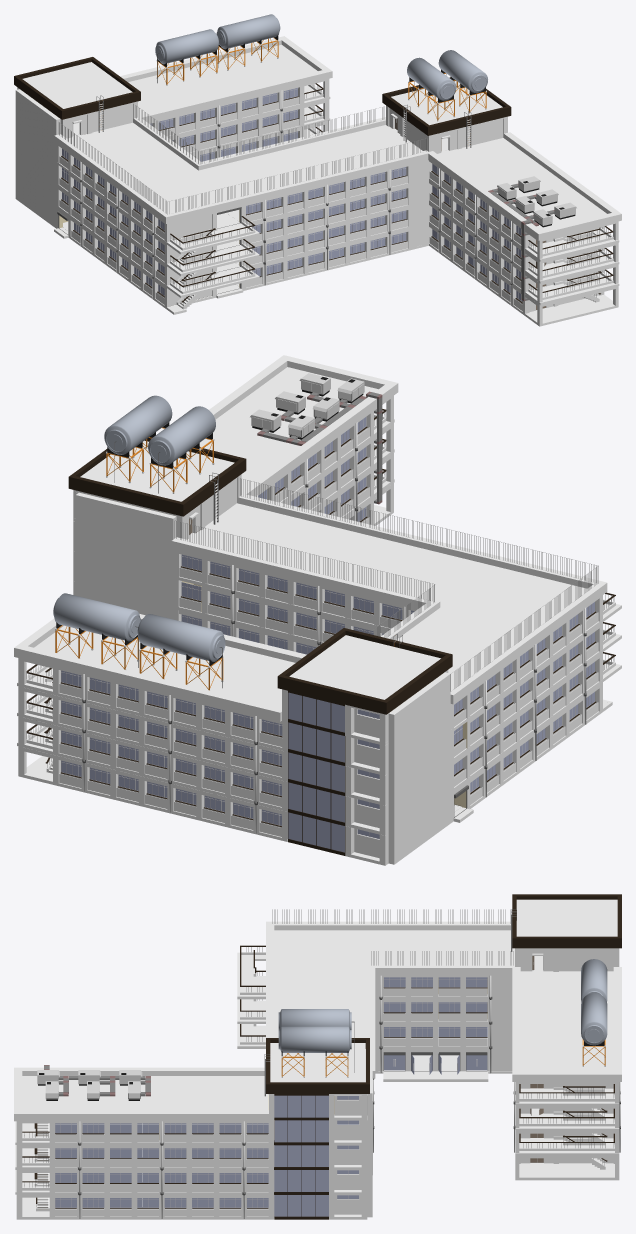
Rendered from schoolBuild1Draco.glb.
3 renders of one model, top to bottom at view 1: azimuth 30°, elevation 25°; view 2: azimuth 150°, elevation 25°; view 3: azimuth 270°, elevation 25°, orthographic. The views are drawn at different scales.
Parts seen in each view (by area): view 1: G-__557742, G-__555564, G-__557733, G-__556689, G-__556941, G-__556887, G-__559659, G-__558768, G-__556878, G-__556815, G-__556986, G-__556914 (+31 smaller); view 2: G-__557742, G-__555564, G-__559659, G-__558768, G-__555915, G-__555852, G-__556050, G-__555987, G-__556104, G-__559362, G-__559065, G-__555879 (+26 smaller); view 3: G-__557742, G-__555564, G-__556617, G-__557733, G-__559362, G-__556887, G-__556077, G-__555978, G-__556923, G-__557715, G-__555897, G-__556860 (+39 smaller).
Part boxes in pixels (x1,y1,x2,y2): G-__557742: (17, 36, 621, 240); G-__555564: (14, 57, 599, 304); G-__557733: (170, 216, 255, 309); G-__556689: (528, 226, 613, 302); G-__556941: (525, 221, 618, 324); G-__556887: (429, 243, 618, 326); G-__559659: (155, 29, 218, 83); G-__558768: (216, 14, 280, 67); G-__556878: (412, 160, 428, 247); G-__556815: (239, 228, 412, 288); G-__556986: (239, 184, 412, 245); G-__556914: (239, 206, 412, 266); G-__557742: (14, 355, 607, 745); G-__555564: (68, 437, 452, 861); G-__559659: (137, 614, 225, 688); G-__558768: (53, 593, 140, 667); G-__555915: (53, 695, 287, 778); G-__555852: (53, 725, 287, 808); G-__556050: (53, 755, 287, 838); G-__555987: (18, 756, 388, 865); G-__556104: (53, 666, 453, 748); G-__559362: (104, 395, 172, 482); G-__559065: (148, 406, 215, 493); G-__555879: (17, 725, 388, 835); G-__557742: (14, 921, 621, 1121); G-__555564: (266, 894, 621, 1214); G-__556617: (519, 1084, 614, 1169); G-__557733: (240, 945, 265, 1044); G-__559362: (278, 1026, 354, 1072); G-__556887: (16, 1194, 367, 1219); G-__556077: (515, 1082, 619, 1177); G-__555978: (493, 975, 512, 1070); G-__556923: (49, 1194, 274, 1216); G-__557715: (49, 1145, 274, 1167); G-__555897: (265, 1052, 512, 1081); G-__556860: (49, 1170, 274, 1192).
Bounding box in the file's own units: 50.96 × 21.95 × 67.67.
